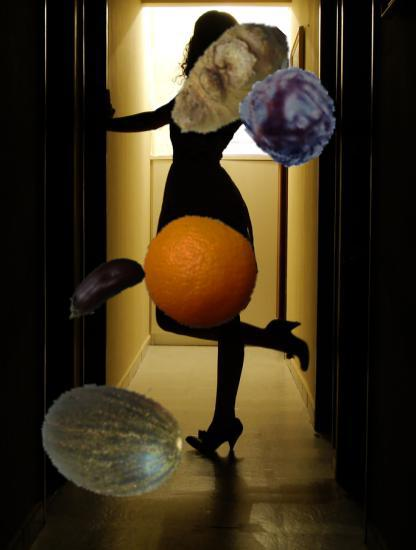Dates: (243, 67, 340, 164)
Eggplant: (56, 240, 149, 333)
Ginger: (162, 13, 305, 156)
Melon: (43, 366, 186, 509)
Orange: (142, 214, 259, 331)
